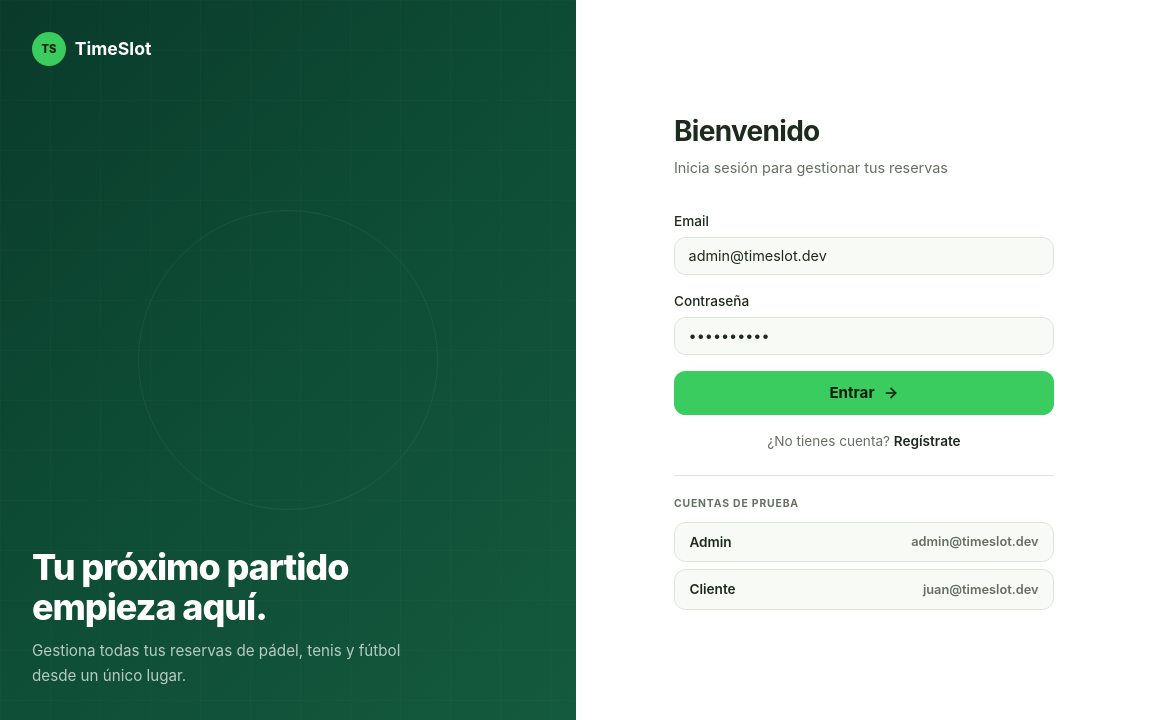
Test: LoginPage › shows fallback error when no response message
Click the button "Entrar".
click(864, 393)  # box top-left (674, 371), bottom-right (1054, 415)
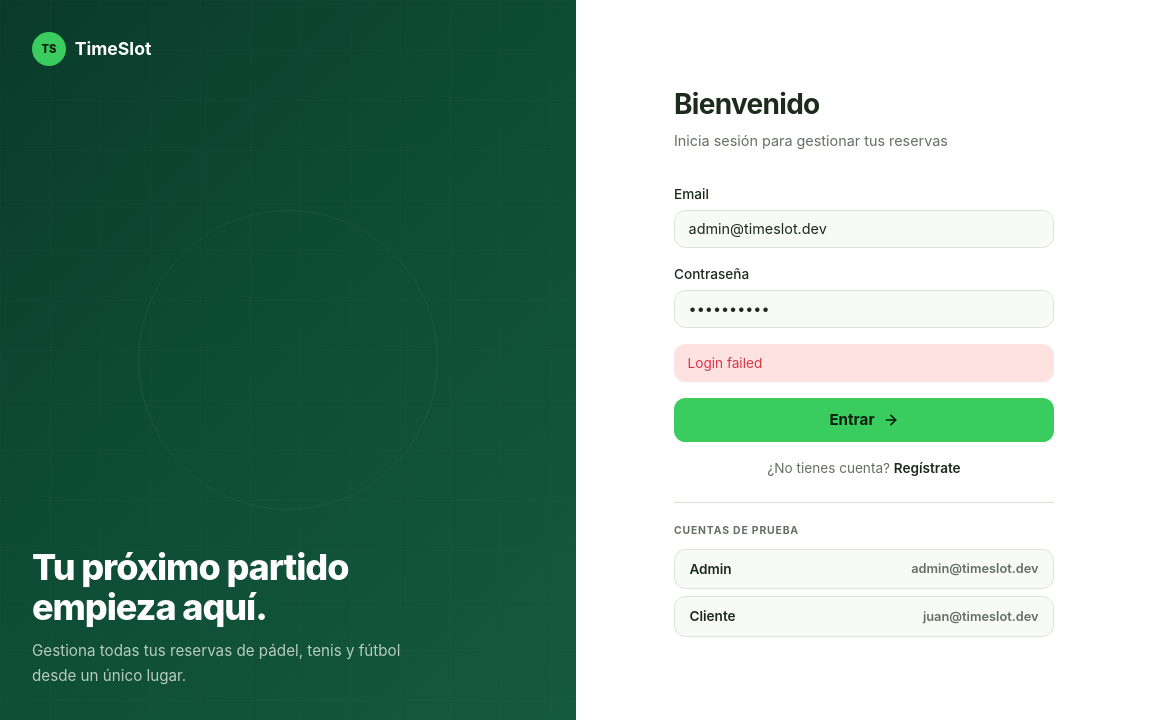
Expected: the text "Login failed" is shown, top-left (674, 344), bottom-right (1054, 382)
